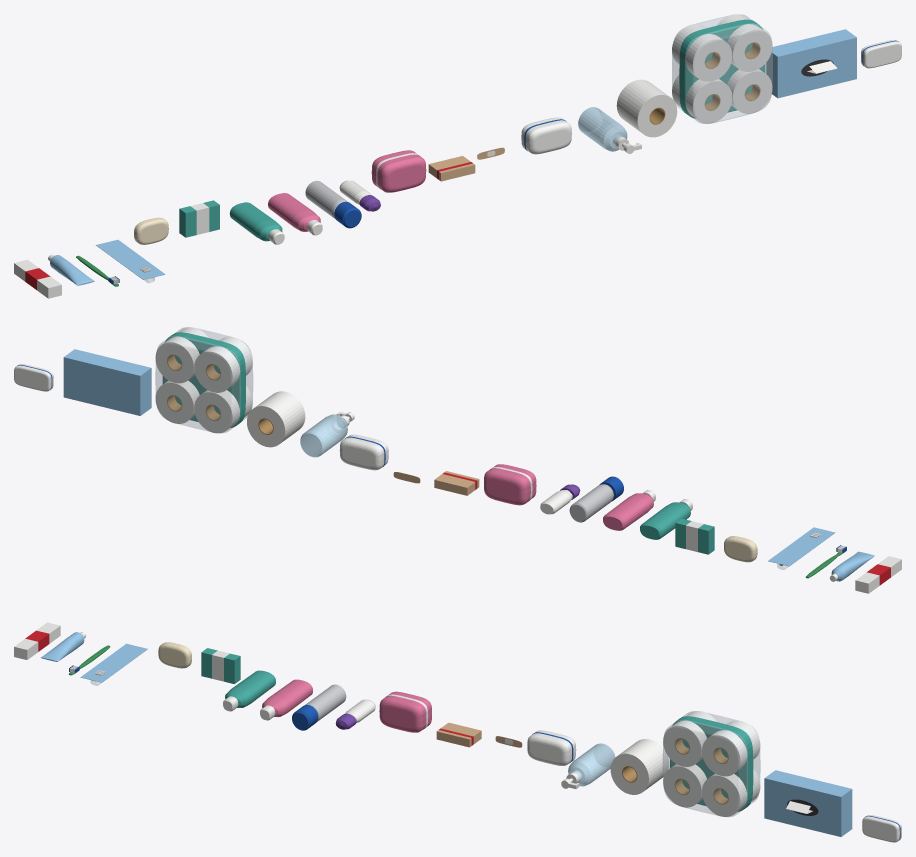
File: todos_os_itens_higiene.obj
3 views of the same model, one above another, from view 1: azimuth 30°, elevation 25°; view 2: azimuth 150°, elevation 25°; view 3: azimuth 330°, elevation 25° (orthographic). The views are drawn at different scales.
Visible parts, largest first — view 1: papel_higienico_fardo_4_rolos, lencos_de_papel_caixa, papel_higienico_rolo, absorventes_pacote, alcool_em_gel_500ml, algodao_pacote, desodorante_aerosol, shampoo_350ml, condicionador_350ml, sabonete_caixa, escova_dental_embalagem, creme_dental_caixa (+5 smaller); view 2: papel_higienico_fardo_4_rolos, lencos_de_papel_caixa, papel_higienico_rolo, absorventes_pacote, alcool_em_gel_500ml, algodao_pacote, desodorante_aerosol, condicionador_350ml, shampoo_350ml, sabonete_caixa, escova_dental_embalagem, creme_dental_caixa (+5 smaller); view 3: papel_higienico_fardo_4_rolos, lencos_de_papel_caixa, papel_higienico_rolo, absorventes_pacote, alcool_em_gel_500ml, algodao_pacote, desodorante_aerosol, condicionador_350ml, shampoo_350ml, sabonete_caixa, escova_dental_embalagem, creme_dental_caixa (+5 smaller).
Part boxes in pixels (bbox=[...]): papel_higienico_fardo_4_rolos: bbox=[672, 14, 772, 123]; lencos_de_papel_caixa: bbox=[766, 29, 856, 98]; papel_higienico_rolo: bbox=[616, 79, 677, 137]; absorventes_pacote: bbox=[371, 150, 426, 192]; alcool_em_gel_500ml: bbox=[578, 107, 641, 153]; algodao_pacote: bbox=[521, 117, 571, 154]; desodorante_aerosol: bbox=[305, 180, 361, 228]; shampoo_350ml: bbox=[229, 202, 284, 244]; condicionador_350ml: bbox=[268, 193, 322, 235]; sabonete_caixa: bbox=[179, 200, 219, 237]; escova_dental_embalagem: bbox=[96, 239, 165, 283]; creme_dental_caixa: bbox=[14, 259, 61, 298]; papel_higienico_fardo_4_rolos: bbox=[155, 327, 253, 433]; lencos_de_papel_caixa: bbox=[63, 349, 151, 415]; papel_higienico_rolo: bbox=[247, 391, 305, 447]; absorventes_pacote: bbox=[484, 464, 536, 505]; alcool_em_gel_500ml: bbox=[300, 411, 354, 457]; algodao_pacote: bbox=[339, 434, 388, 470]; desodorante_aerosol: bbox=[569, 476, 623, 522]; condicionador_350ml: bbox=[603, 490, 655, 530]; shampoo_350ml: bbox=[640, 499, 692, 539]; sabonete_caixa: bbox=[675, 518, 714, 554]; escova_dental_embalagem: bbox=[768, 527, 835, 569]; creme_dental_caixa: bbox=[855, 556, 901, 593]; papel_higienico_fardo_4_rolos: bbox=[662, 711, 760, 817]; lencos_de_papel_caixa: bbox=[764, 770, 852, 836]; papel_higienico_rolo: bbox=[610, 739, 668, 794]; absorventes_pacote: bbox=[379, 691, 431, 732]; alcool_em_gel_500ml: bbox=[561, 743, 615, 788]; algodao_pacote: bbox=[527, 730, 576, 765]; desodorante_aerosol: bbox=[292, 684, 346, 730]; condicionador_350ml: bbox=[260, 679, 312, 720]; shampoo_350ml: bbox=[223, 670, 275, 711]; sabonete_caixa: bbox=[201, 648, 240, 683]; escova_dental_embalagem: bbox=[80, 643, 147, 685]; creme_dental_caixa: bbox=[14, 622, 60, 659].
Size of the model in its own units: 2450 by 225 by 228.
